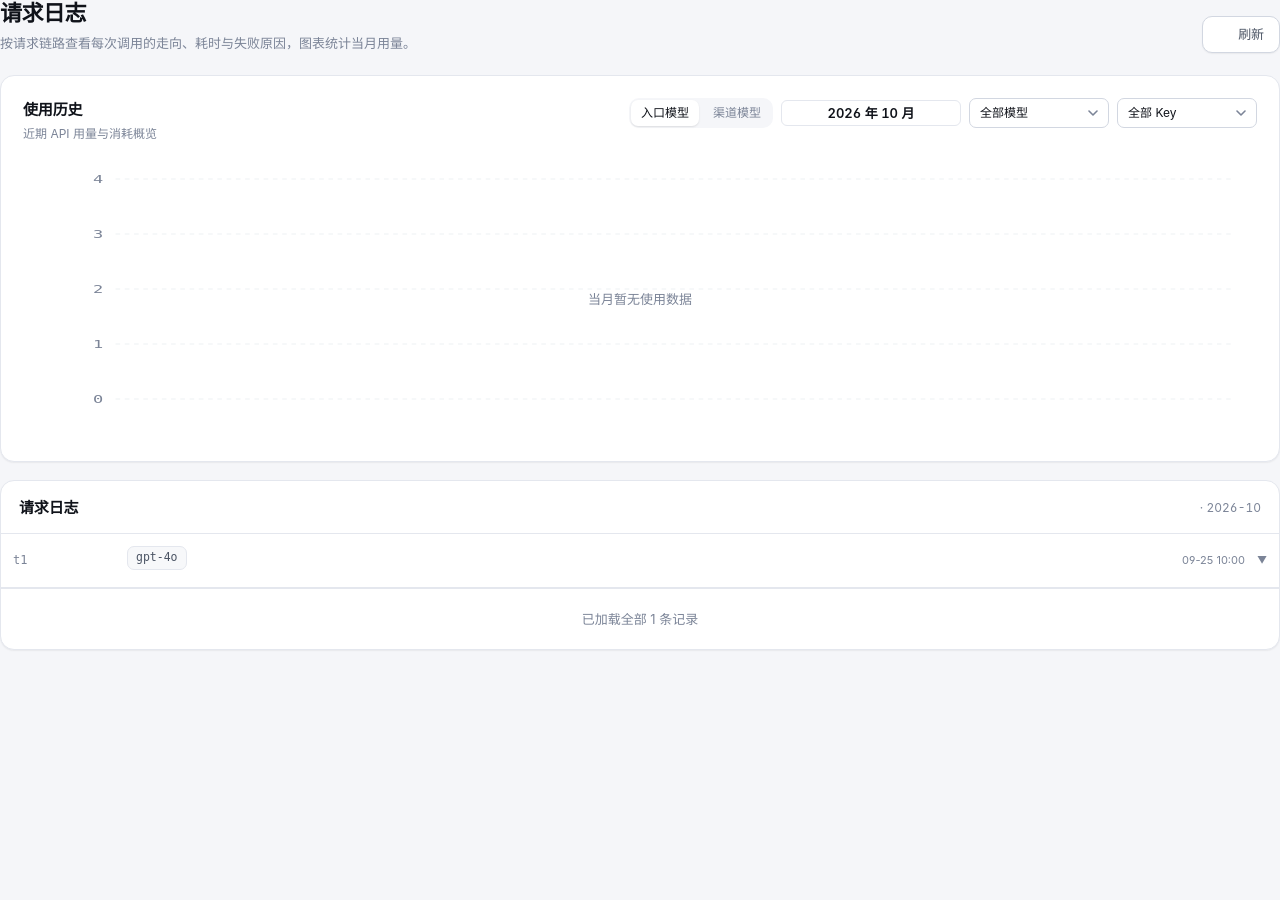
Test: 请求日志页 - 性能重构回归 › 详情弹框里说明入站协议
Step 1. Click the element with class "log-trace" → (640, 561), box [1,534,1279,588]
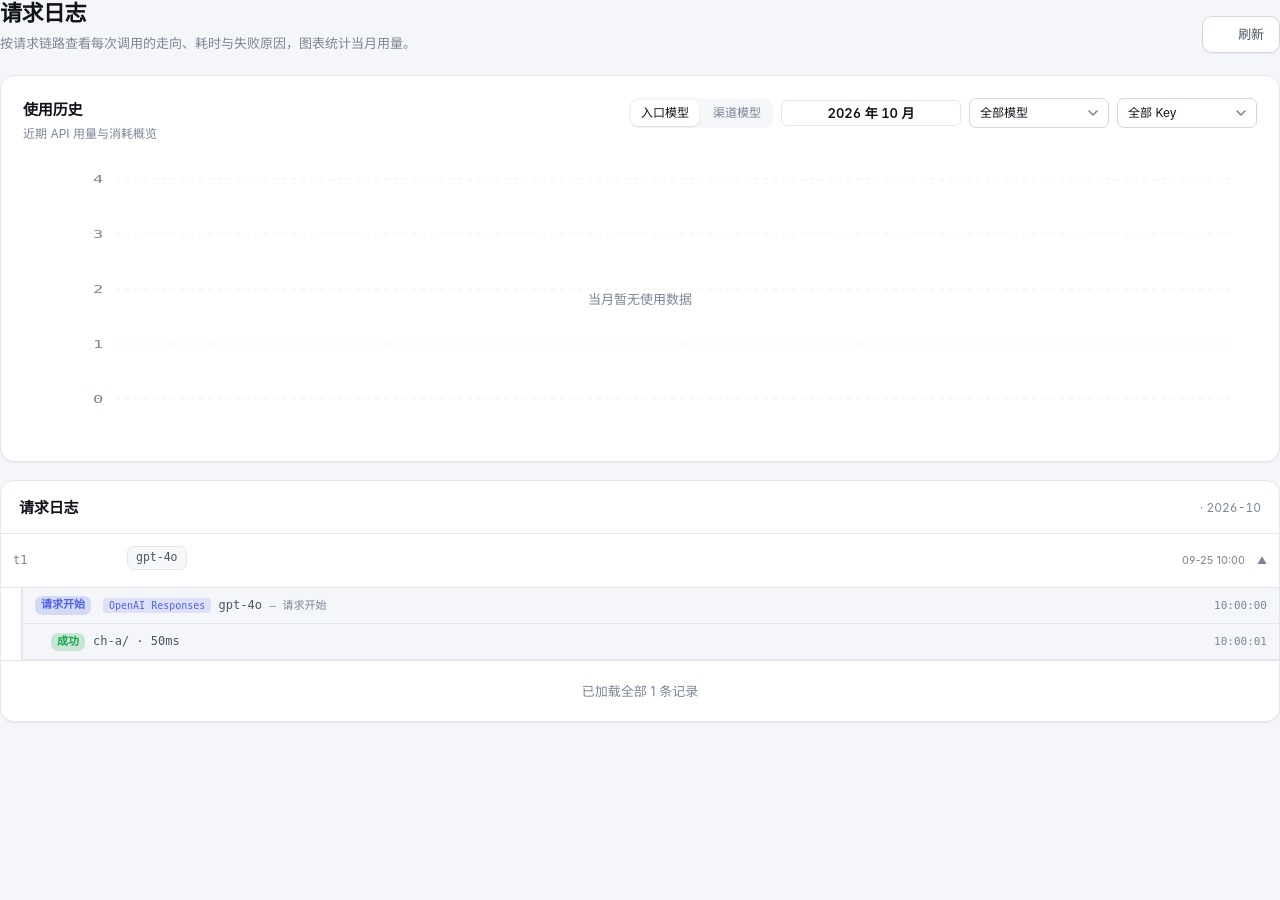
Note: 点击带 message 的起始行（首行），打开详情弹框。
Step 2. Click the element with class "log-entry" that starts with "请求开始" → (651, 606), box [23,588,1279,624]
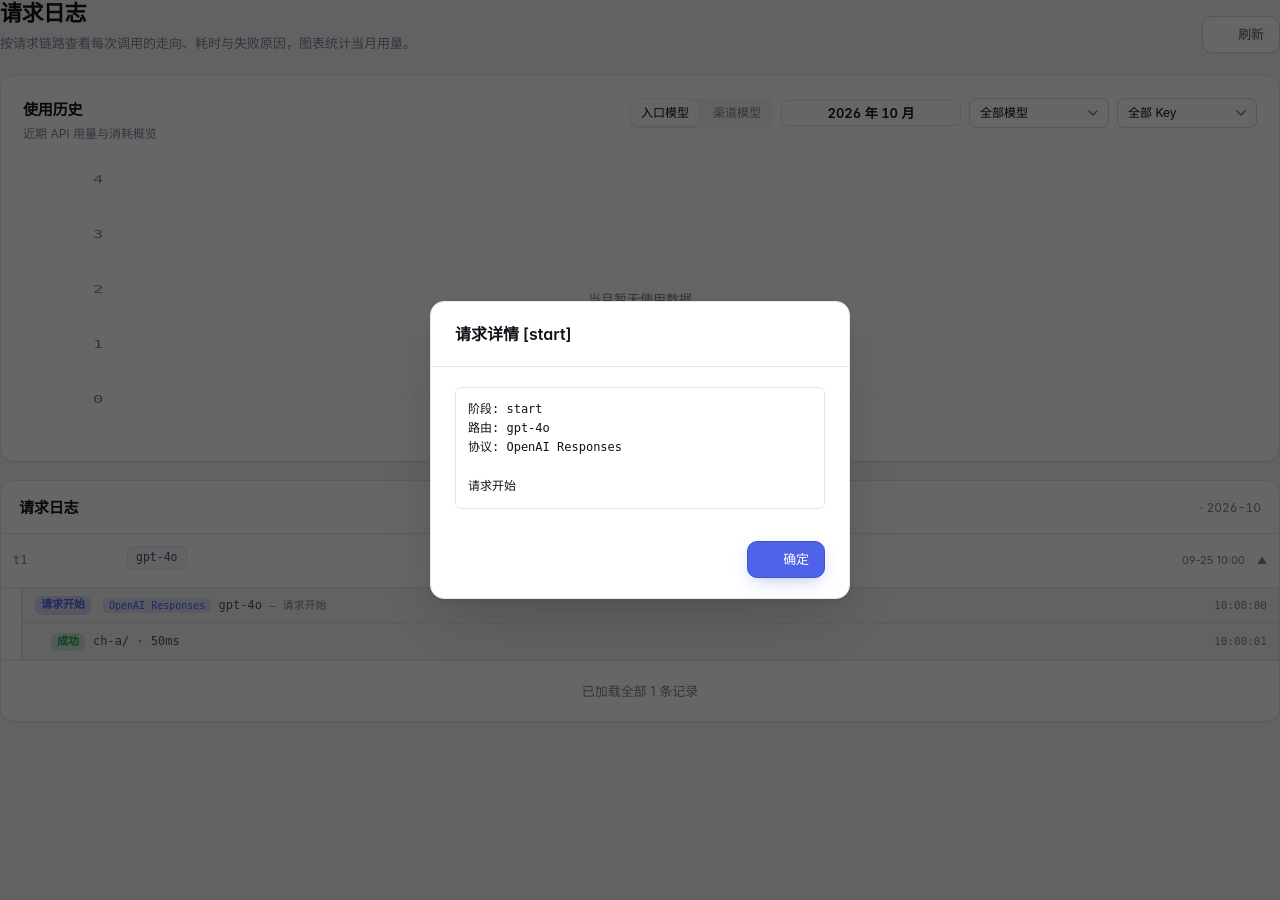
expect the dialog with class "dialog-box" is shown: met, box [430,301,850,599]
expect the dialog with class "dialog-box" shows "OpenAI Responses": met, box [468,402,622,493]
